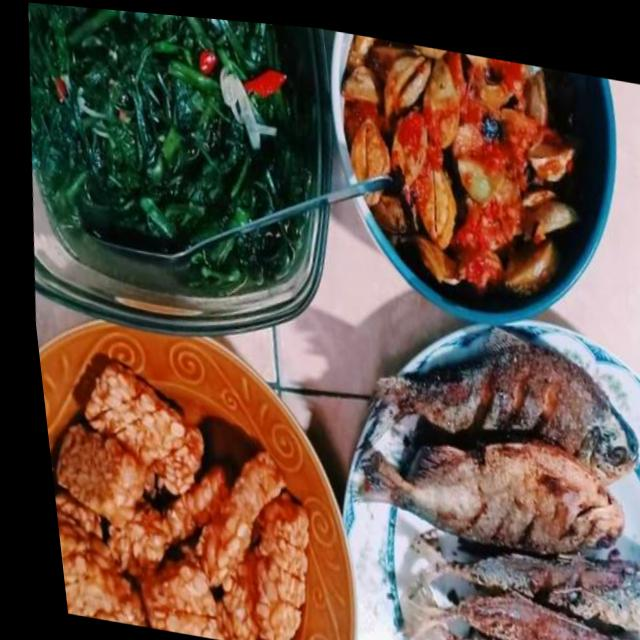ikan goreng: (352, 296, 640, 467), (334, 414, 623, 557), (384, 516, 640, 625), (384, 566, 640, 640), (399, 622, 640, 640)
kangkung: (5, 0, 321, 294)
